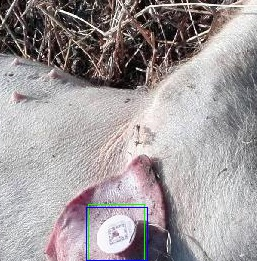text: (88, 204, 144, 261)
